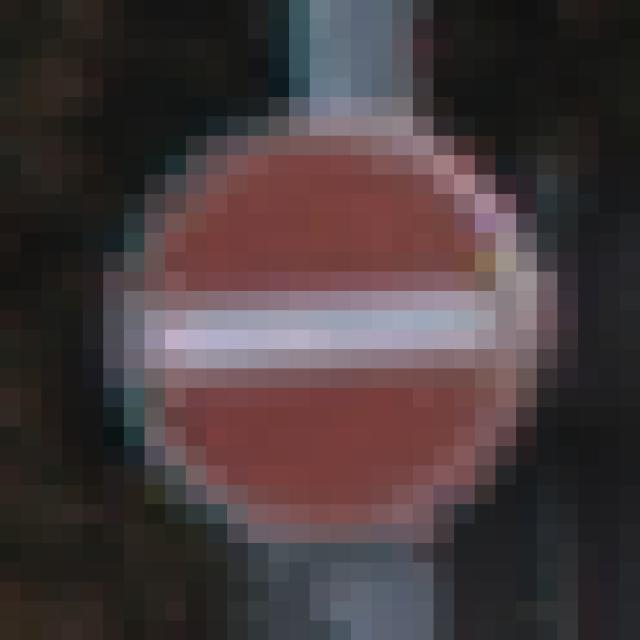No Entry: (104, 98, 538, 544)
